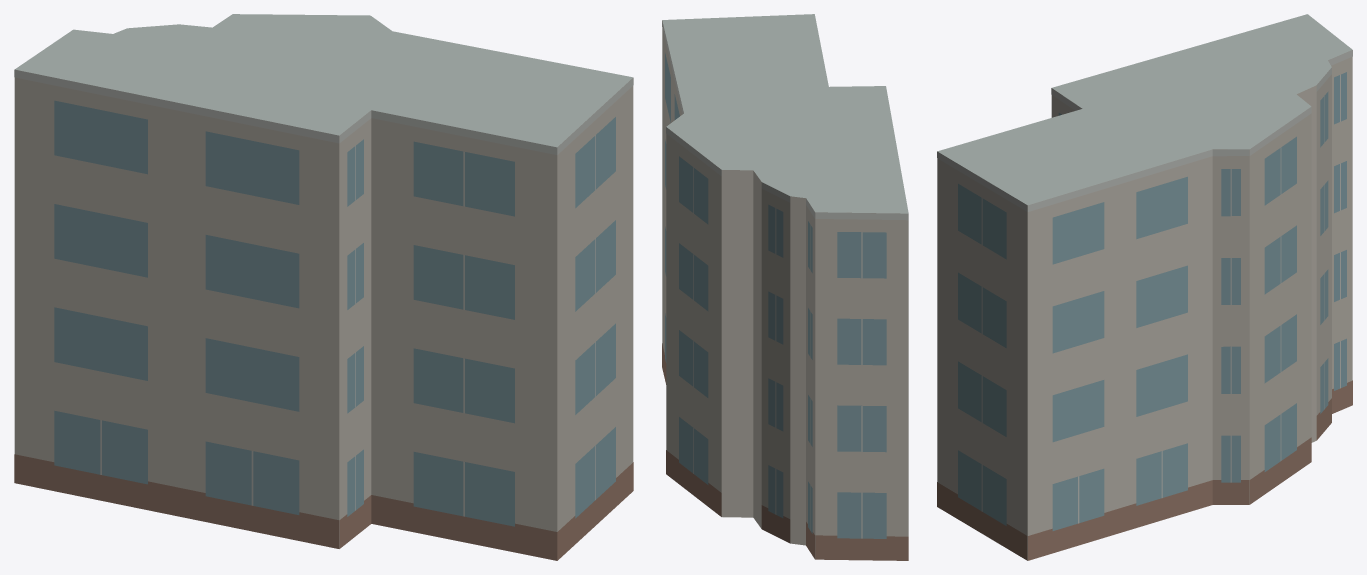
The model's file is survey-upis-32509069.glb.
3 views of the same model, side by side, from view 1: azimuth 30°, elevation 25°; view 2: azimuth 150°, elevation 25°; view 3: azimuth 270°, elevation 25° (orthographic). The views are drawn at different scales.
Visible parts, largest first — view 1: survey-upis-32509069.tmp; view 2: survey-upis-32509069.tmp; view 3: survey-upis-32509069.tmp.
Boxes of the visible parts, left/top/right/bottom form: survey-upis-32509069.tmp: left=14, top=14, right=633, bottom=560; survey-upis-32509069.tmp: left=662, top=14, right=908, bottom=560; survey-upis-32509069.tmp: left=937, top=14, right=1352, bottom=560.
Size of the model in its own units: 14.79 by 12.8 by 13.57.
